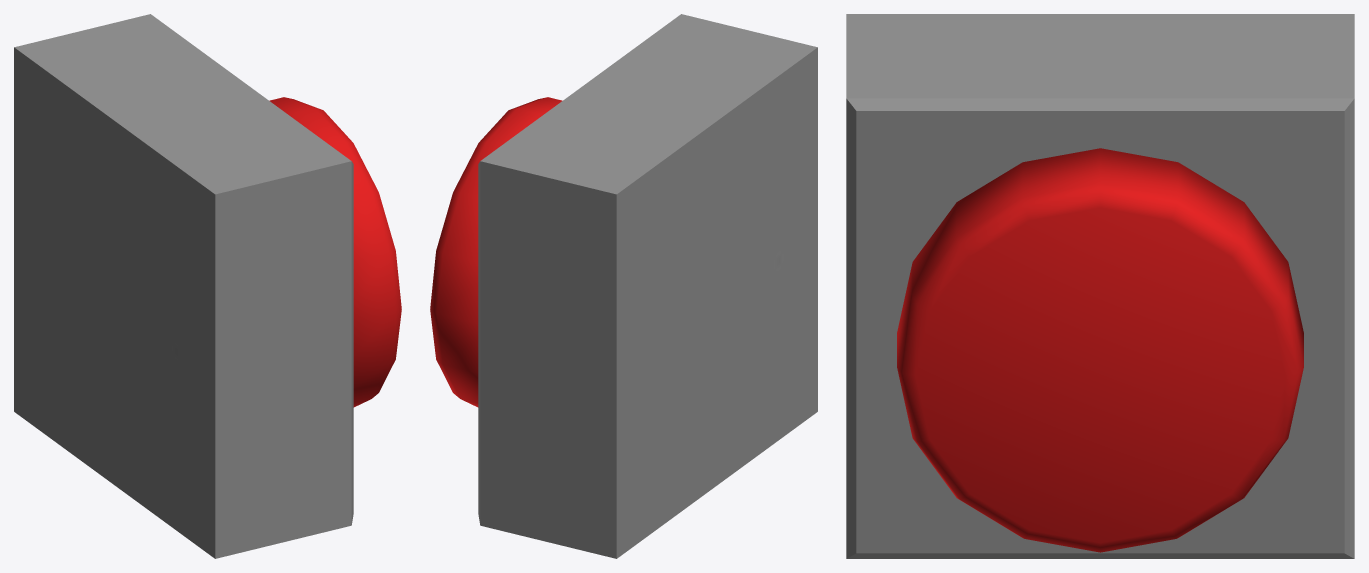
Rendered from button3.fbx.
3 renders of one model, left to right at view 1: azimuth 30°, elevation 25°; view 2: azimuth 150°, elevation 25°; view 3: azimuth 270°, elevation 25°, orthographic. The views are drawn at different scales.
Visible parts, largest first — view 1: BOX, Cylinder; view 2: BOX, Cylinder; view 3: BOX, Cylinder.
Boxes of the visible parts, x1,y1,x2,y2 form: BOX: (14, 14, 353, 558); Cylinder: (269, 97, 401, 407); BOX: (478, 14, 817, 558); Cylinder: (430, 97, 562, 407); BOX: (846, 14, 1354, 558); Cylinder: (897, 148, 1303, 552).
Size of the model in its own units: 30.51 by 50 by 50.
